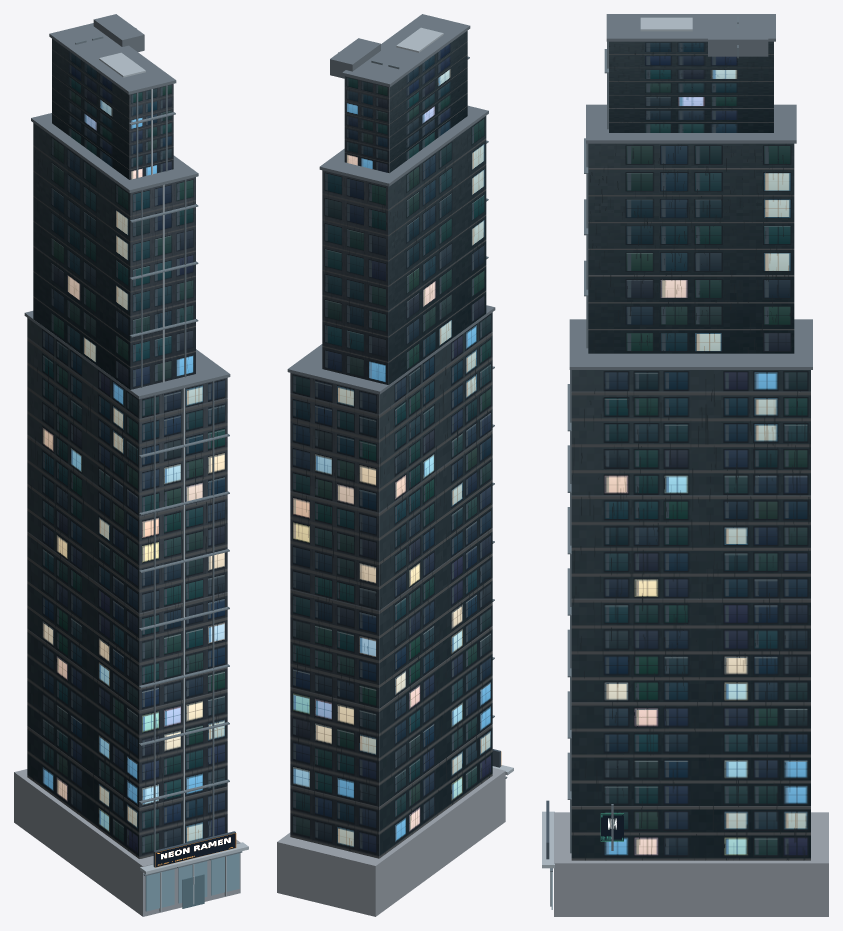
File: building_02.glb
3 views of the same model, side by side, from view 1: azimuth 30°, elevation 25°; view 2: azimuth 150°, elevation 25°; view 3: azimuth 270°, elevation 25° (orthographic). The views are drawn at different scales.
Visible parts, largest first — view 1: facade_sideb_3, facade_0, facade_sideb_7, facade_4, concrete, roof, frame, facade_sideb_11, facade_8, alum, glass, sign_12 (+1 smaller); view 2: facade_sideb_3, facade_back_1, facade_sideb_7, concrete, facade_back_5, roof, facade_sideb_11, facade_back_9, alum; view 3: facade_side_2, facade_side_6, concrete, facade_side_10, roof, frame, alum, side_sign_13.
Boxes of the visible parts, <box> form: facade_sideb_3: <box>27,318,139,858</box>; facade_0: <box>139,377,227,858</box>; facade_sideb_7: <box>33,123,130,389</box>; facade_4: <box>130,177,195,389</box>; concrete: <box>14,95,240,916</box>; roof: <box>24,14,230,398</box>; frame: <box>75,28,242,876</box>; facade_sideb_11: <box>52,39,129,179</box>; facade_8: <box>129,84,173,179</box>; alum: <box>99,52,248,912</box>; glass: <box>145,853,239,911</box>; sign_12: <box>155,833,236,867</box>; facade_sideb_3: <box>379,312,492,858</box>; facade_back_1: <box>290,373,378,858</box>; facade_sideb_7: <box>388,116,486,384</box>; concrete: <box>277,87,505,916</box>; facade_back_5: <box>322,170,388,384</box>; roof: <box>287,14,495,394</box>; facade_sideb_11: <box>389,31,467,172</box>; facade_back_9: <box>345,76,389,172</box>; alum: <box>396,27,513,775</box>; facade_side_2: <box>571,370,810,860</box>; facade_side_6: <box>588,143,794,353</box>; concrete: <box>554,812,828,916</box>; facade_side_10: <box>609,41,773,132</box>; roof: <box>569,14,812,369</box>; frame: <box>550,16,738,871</box>; alum: <box>542,17,692,906</box>; side_sign_13: <box>600,813,623,841</box>.
Bounding box in the file's own units: 16.75 × 122 × 36.7.
Materials: 23 (14 with a texture image).
